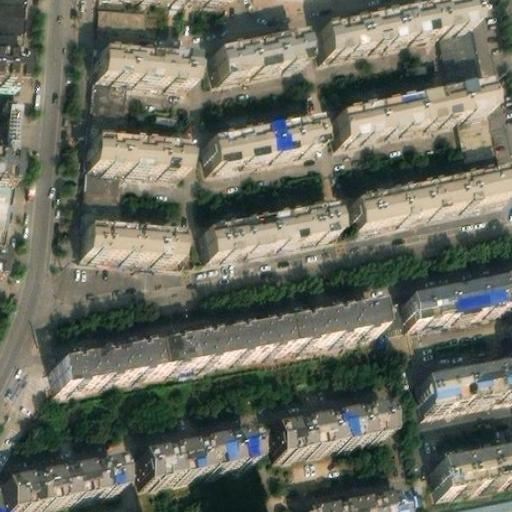building: (52, 325, 284, 392), (355, 175, 512, 236), (338, 77, 494, 137), (205, 214, 340, 270), (93, 9, 149, 139), (267, 413, 395, 469), (5, 455, 128, 507), (144, 425, 263, 477), (208, 115, 324, 167), (412, 286, 512, 334), (215, 30, 308, 80), (420, 374, 512, 423), (280, 309, 375, 352), (433, 447, 512, 494), (91, 140, 188, 177), (99, 51, 195, 85), (85, 231, 178, 266), (454, 107, 498, 173), (435, 23, 479, 86), (296, 489, 408, 512), (86, 172, 123, 232), (0, 0, 27, 82), (430, 492, 512, 512), (0, 53, 18, 83)
